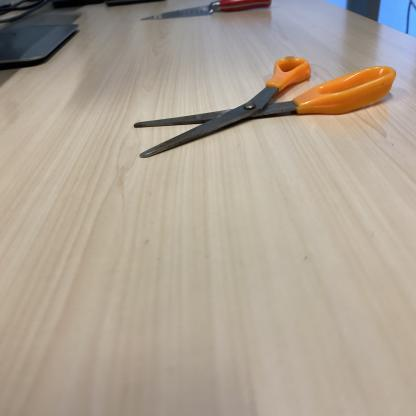Knife: (143, 0, 275, 25)
scissors: (134, 51, 397, 164)
